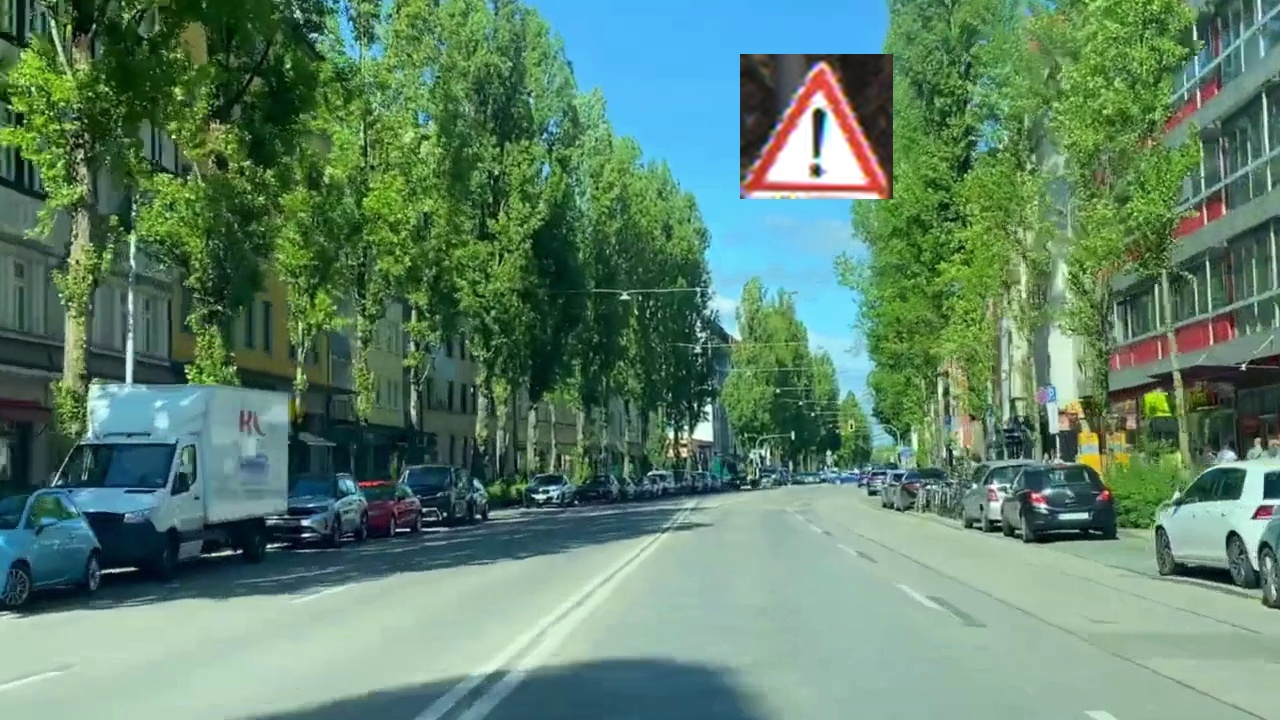Caution: (740, 54, 893, 199)
